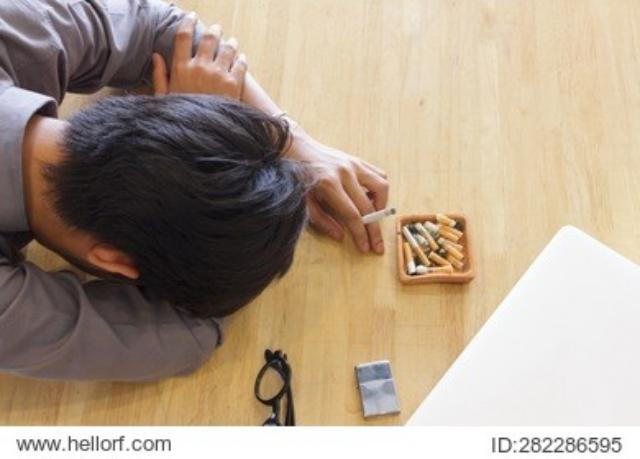Cigarette: (362, 314, 418, 392), (370, 308, 372, 346)
